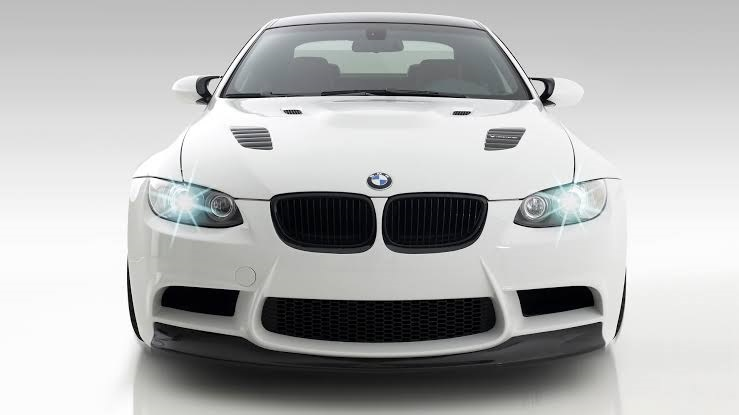bmw: (65, 11, 690, 384)
